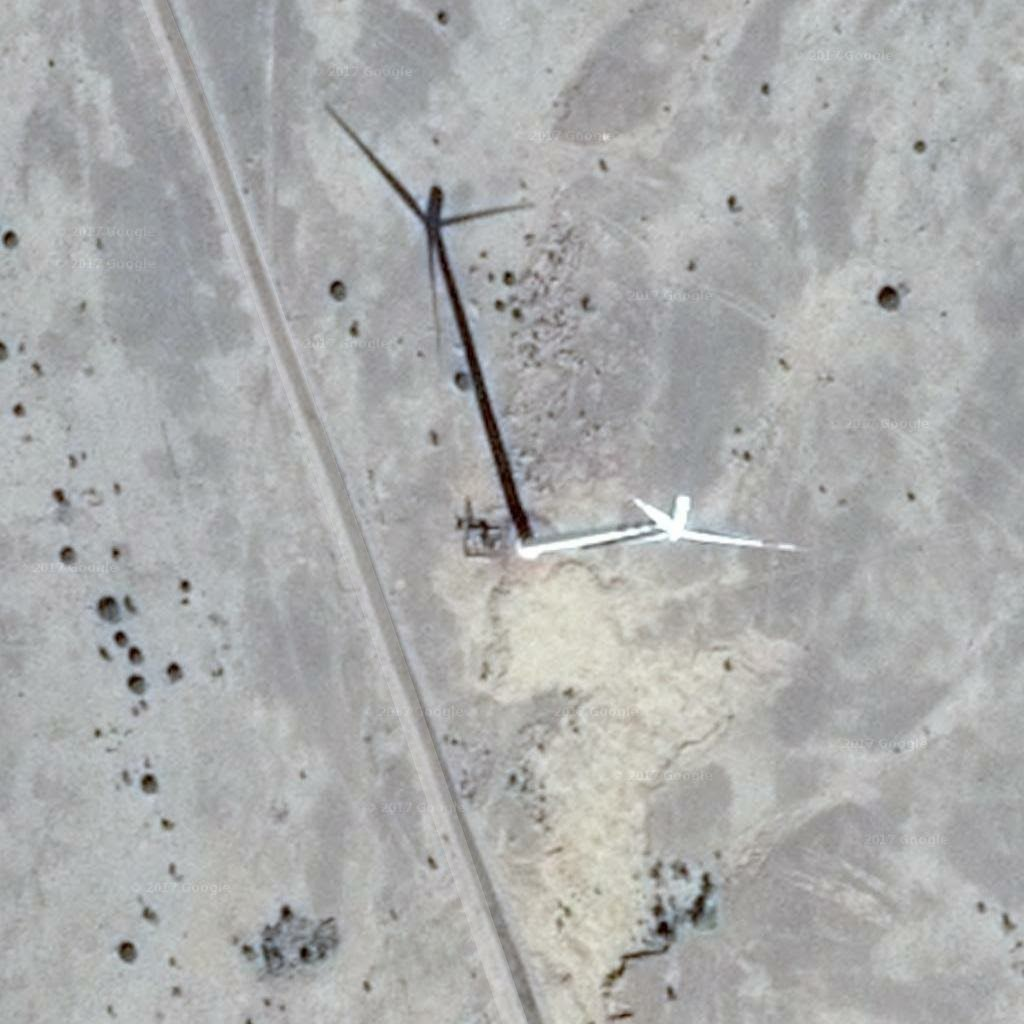Windmill: (318, 101, 558, 528)
